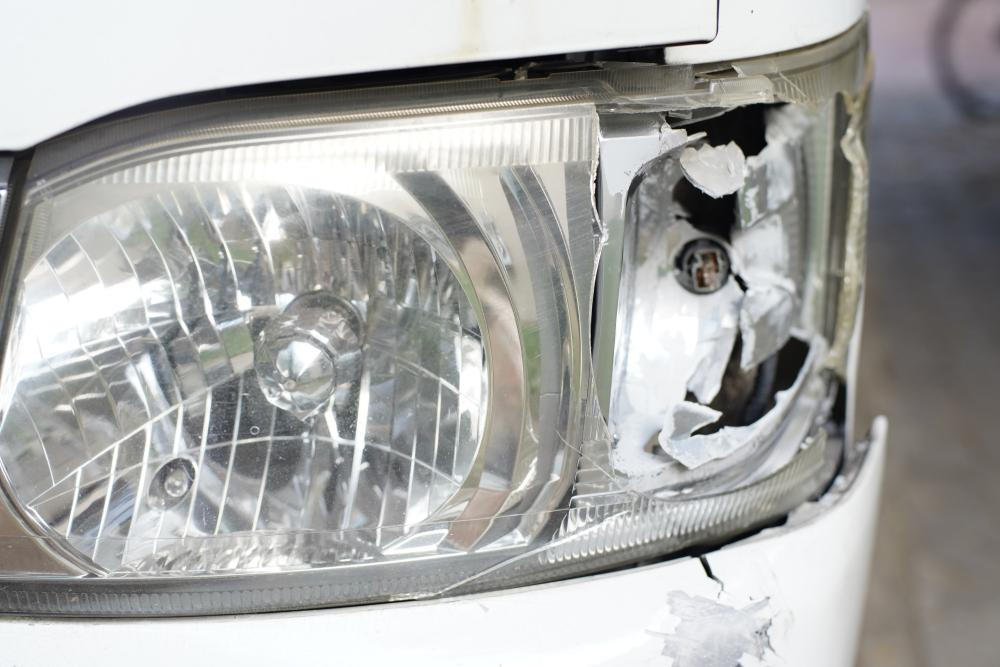crack: (699, 556, 724, 598)
lamp broken: (0, 17, 873, 617)
scratch: (641, 580, 787, 667)
